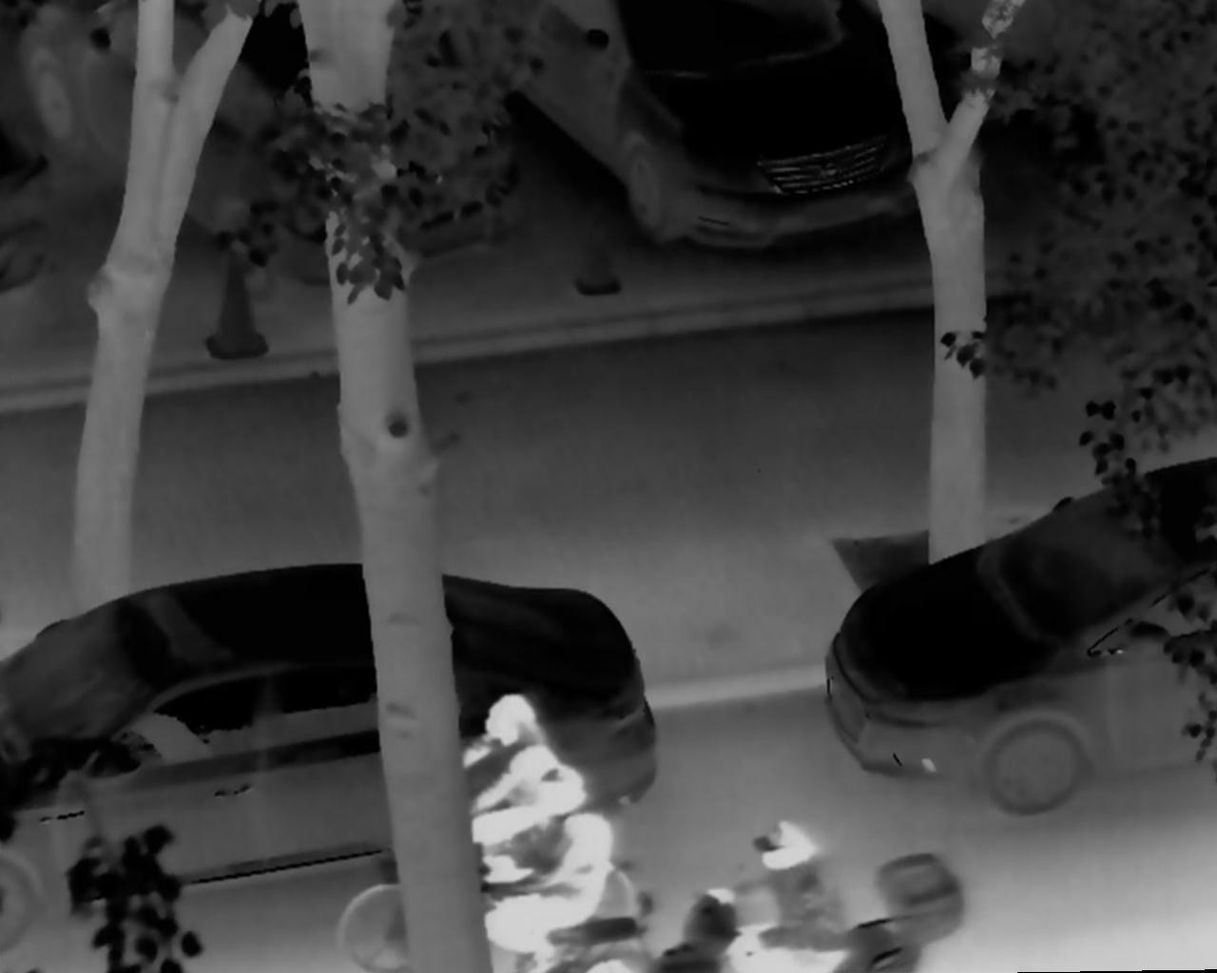person: (459, 765, 611, 973), (699, 792, 851, 973), (454, 689, 553, 889)
